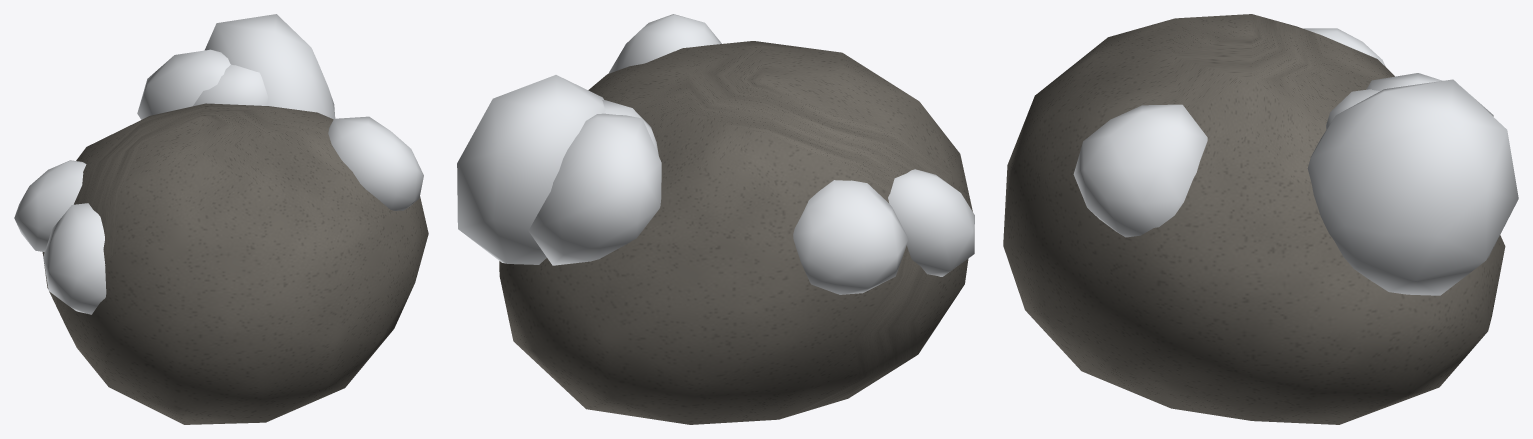
The model's file is ore_silver.glb.
3 views of the same model, side by side, from view 1: azimuth 30°, elevation 25°; view 2: azimuth 150°, elevation 25°; view 3: azimuth 270°, elevation 25° (orthographic). The views are drawn at different scales.
Visible parts, largest first — view 1: ore_silver; view 2: ore_silver; view 3: ore_silver.
Part boxes in pixels (bbox=[...]): ore_silver: bbox=[14, 14, 428, 424]; ore_silver: bbox=[457, 14, 974, 424]; ore_silver: bbox=[1003, 14, 1518, 424].
Bounding box in the file's own units: 0.1769 × 0.1364 × 0.1743.
2 materials, 1 textured.
